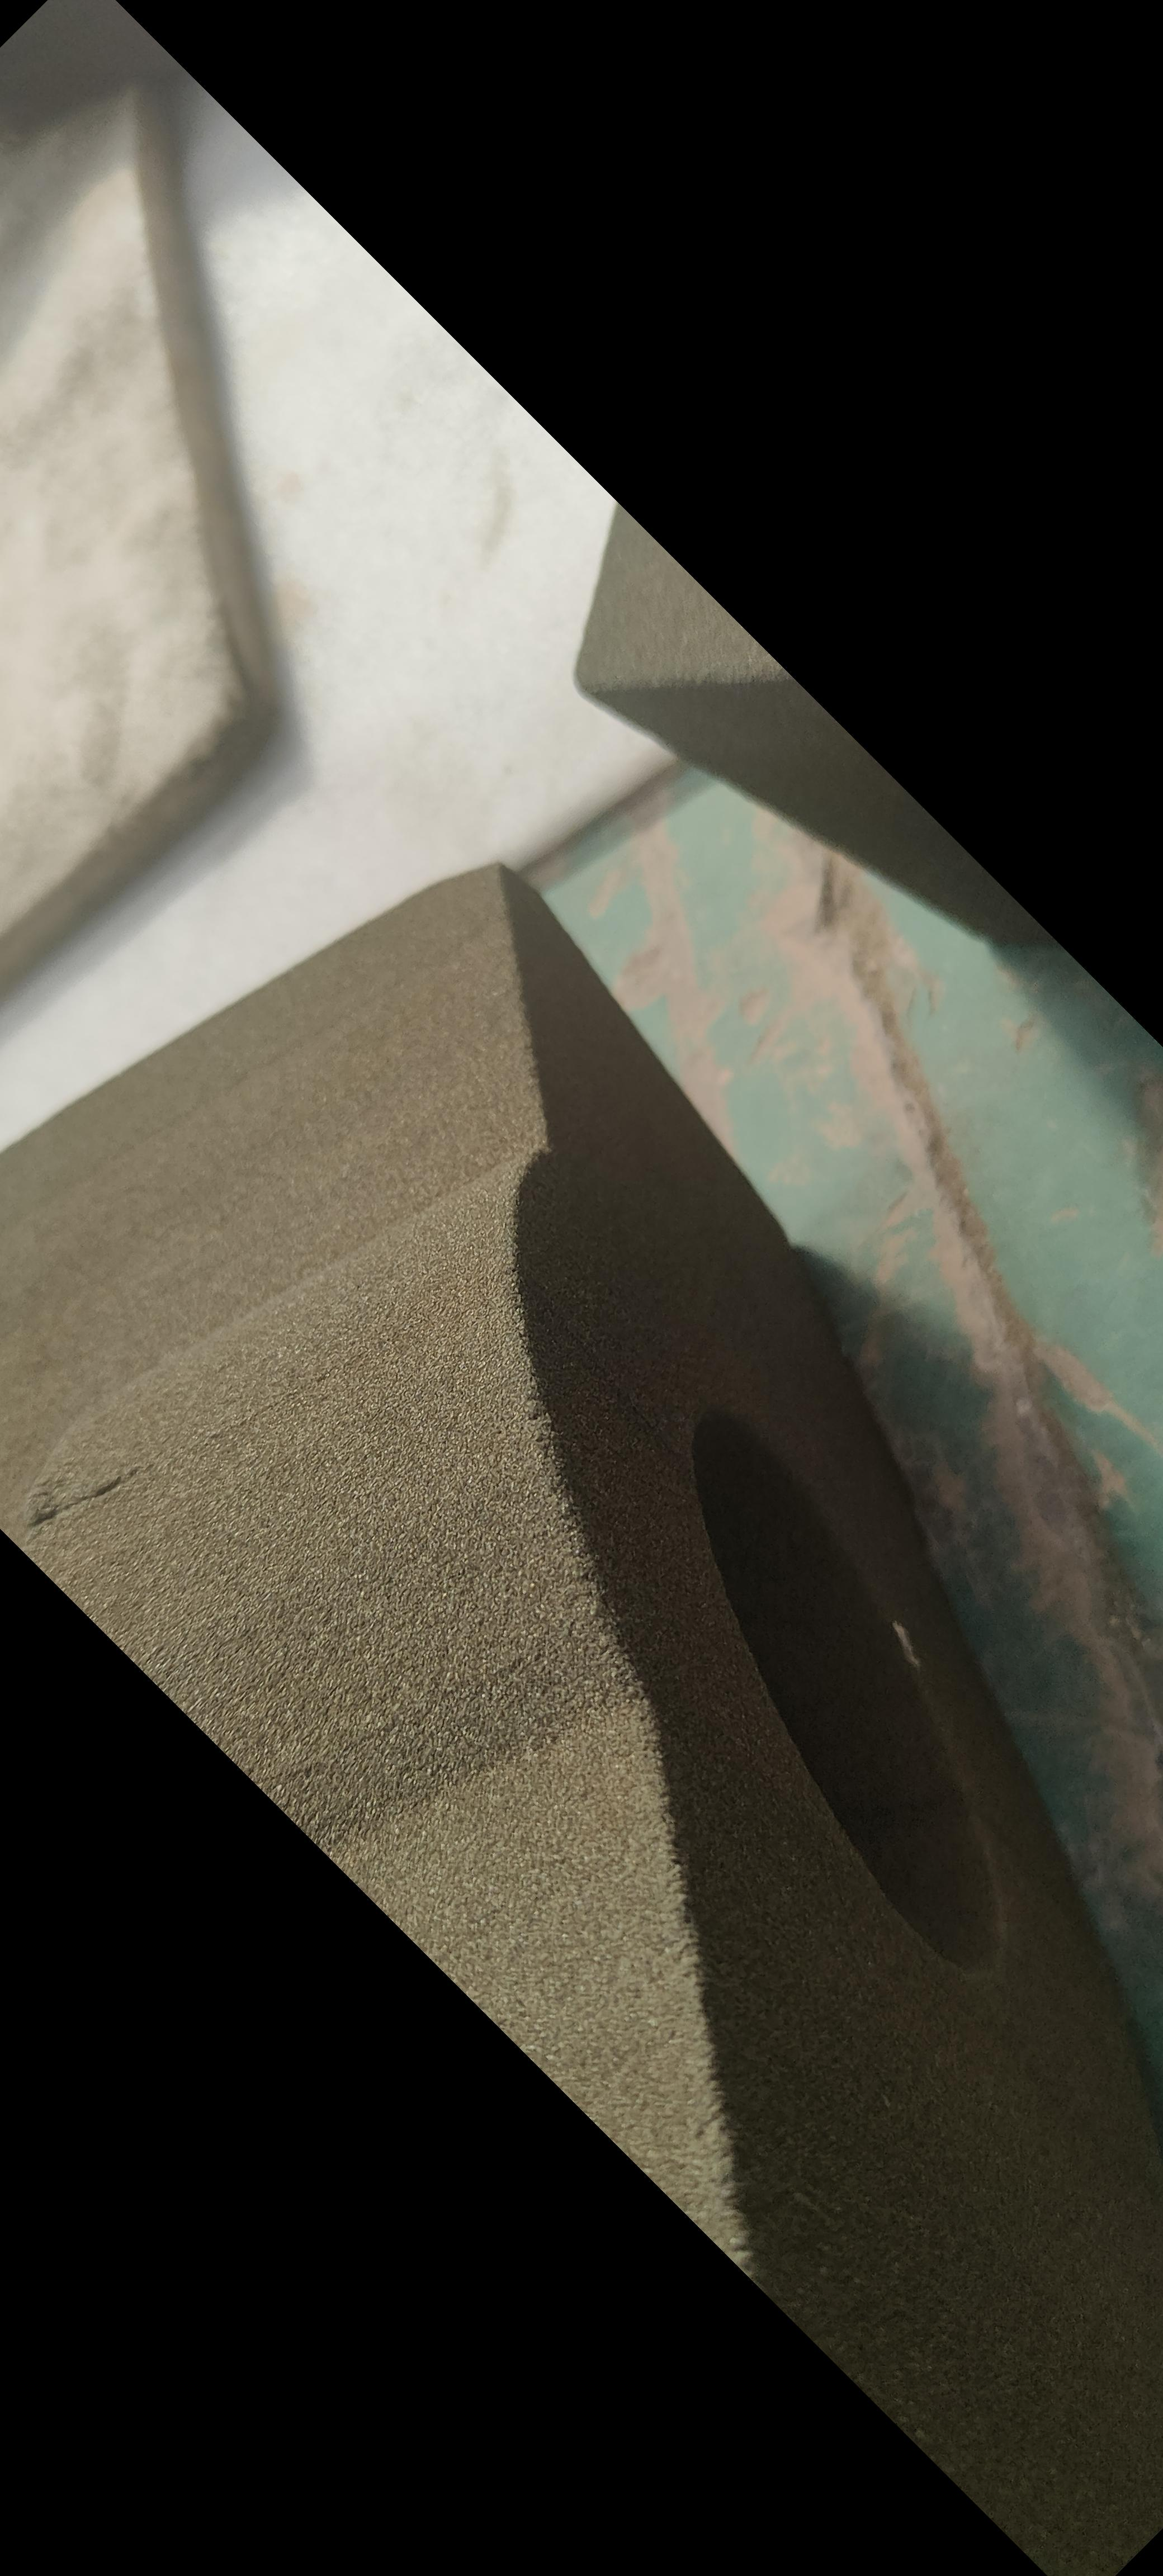pouring hole: (688, 1408, 1007, 1975)
